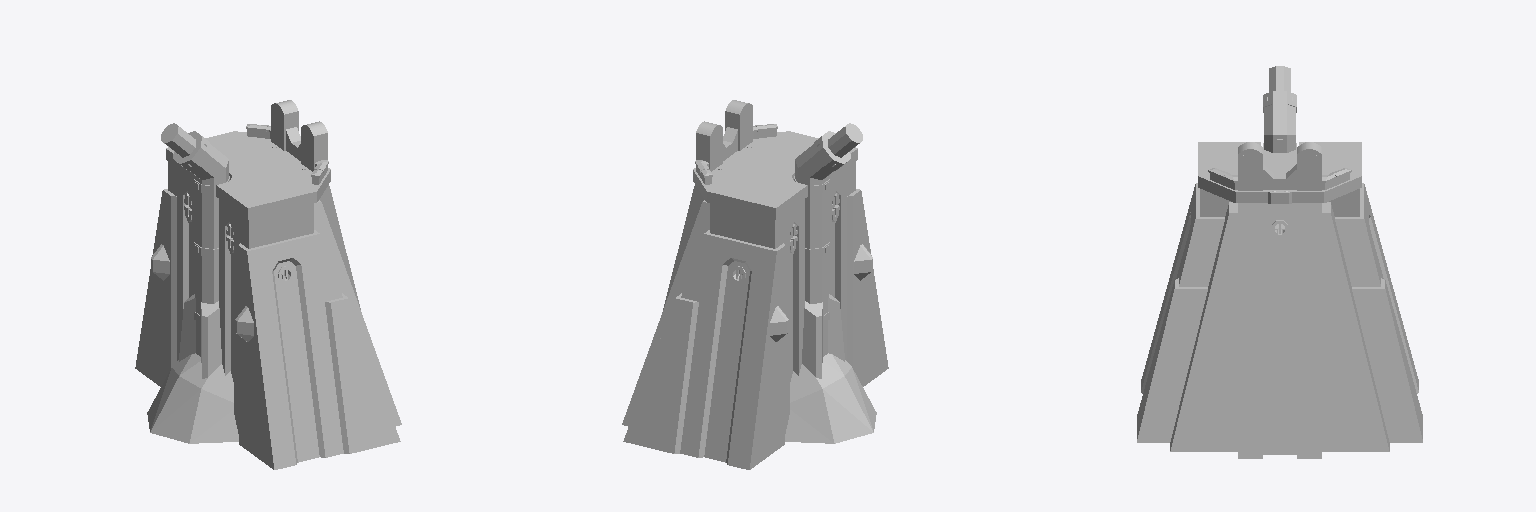
The model's file is 13yard-blitz.obj.
3 views of the same model, side by side, from view 1: azimuth 30°, elevation 25°; view 2: azimuth 150°, elevation 25°; view 3: azimuth 270°, elevation 25° (orthographic).
Visible parts, largest first — view 1: entity0_brush89, entity0_brush110, entity0_brush233, entity0_brush234, entity0_brush91, entity0_brush90, entity0_brush165, entity0_brush96, entity0_brush102, entity0_brush100, entity0_brush329, entity0_brush239 (+17 smaller); view 2: entity0_brush208, entity0_brush187, entity0_brush234, entity0_brush233, entity0_brush206, entity0_brush207, entity0_brush175, entity0_brush201, entity0_brush195, entity0_brush197, entity0_brush330, entity0_brush239 (+17 smaller); view 3: entity0_brush165, entity0_brush175, entity0_brush216, entity0_brush323, entity0_brush324, entity0_brush168, entity0_brush172, entity0_brush166, entity0_brush174, entity0_brush169, entity0_brush212, entity0_brush304 (+9 smaller).
Part boxes in pixels (x1,y1,x2,y2): entity0_brush89: (325,298,400,453); entity0_brush110: (276,281,319,462); entity0_brush233: (135,269,176,386); entity0_brush234: (239,336,273,469); entity0_brush91: (259,339,295,469); entity0_brush90: (310,327,343,457); entity0_brush165: (314,202,401,426); entity0_brush96: (298,234,342,305); entity0_brush102: (249,204,313,248); entity0_brush100: (247,246,276,318); entity0_brush329: (201,301,221,378); entity0_brush239: (195,188,218,248); entity0_brush208: (623,298,698,453); entity0_brush187: (704,281,747,462); entity0_brush234: (847,269,888,386); entity0_brush233: (750,336,784,469); entity0_brush206: (728,339,764,469); entity0_brush207: (680,327,713,457); entity0_brush175: (622,202,709,426); entity0_brush201: (681,234,725,305); entity0_brush195: (710,204,774,248); entity0_brush197: (747,246,776,318); entity0_brush330: (802,301,822,378); entity0_brush239: (805,188,828,248); entity0_brush165: (1170,213,1237,451); entity0_brush175: (1322,213,1389,451); entity0_brush216: (1263,235,1296,454); entity0_brush323: (1238,203,1258,458); entity0_brush324: (1301,203,1321,458); entity0_brush168: (1137,287,1207,442); entity0_brush172: (1352,287,1422,442); entity0_brush166: (1179,219,1224,286); entity0_brush174: (1335,219,1380,286); entity0_brush169: (1297,224,1300,458); entity0_brush212: (1259,224,1262,458); entity0_brush304: (1238,155,1262,190).
Size of the model in its own units: 928 by 1264 by 1088.